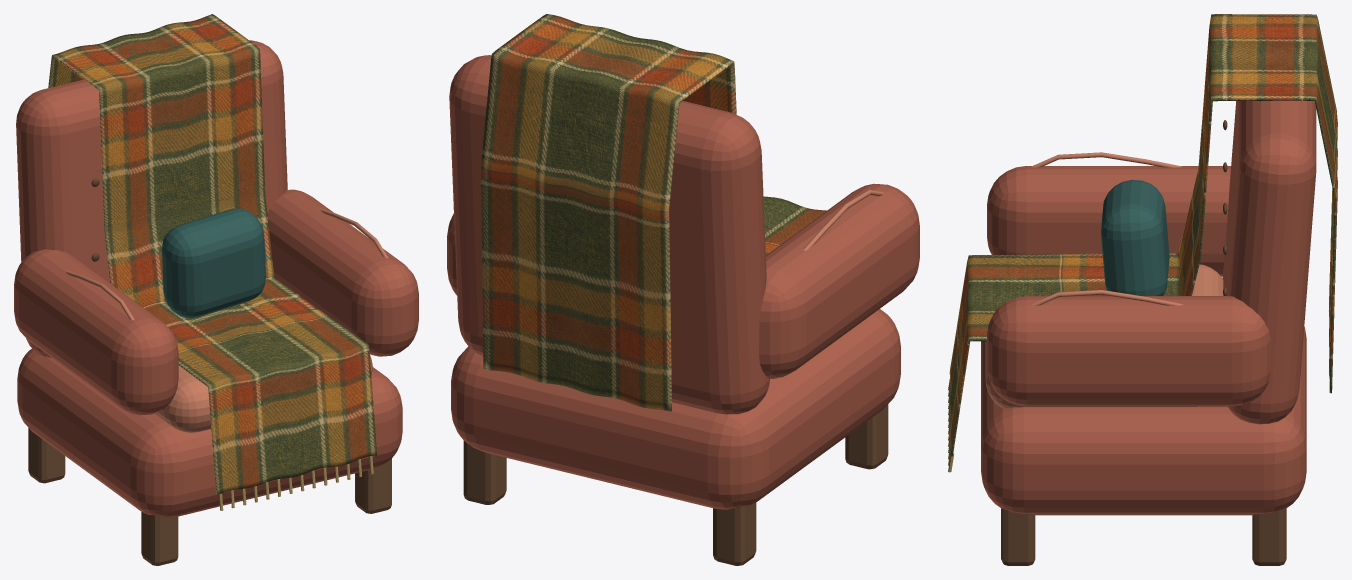
3 renders of one model, left to right at view 1: azimuth 30°, elevation 25°; view 2: azimuth 150°, elevation 25°; view 3: azimuth 270°, elevation 25°, orthographic. The views are drawn at different scales.
Parts seen in each view (by area): view 1: workshop_upholstery, workshop_plaid, workshop_teal_dark, workshop_wood_dark, workshop_upholstery_light, workshop_ochre; view 2: workshop_upholstery, workshop_plaid, workshop_wood_dark, workshop_upholstery_light; view 3: workshop_upholstery, workshop_plaid, workshop_teal_dark, workshop_wood_dark, workshop_upholstery_light.
Part boxes in pixels (x1,y1,x2,y2): workshop_upholstery: [14, 40, 418, 517]; workshop_plaid: [48, 14, 376, 494]; workshop_teal_dark: [162, 208, 265, 317]; workshop_wood_dark: [28, 428, 391, 565]; workshop_upholstery_light: [65, 208, 388, 432]; workshop_ochre: [219, 456, 373, 510]; workshop_upholstery: [447, 55, 919, 509]; workshop_plaid: [481, 14, 826, 411]; workshop_wood_dark: [463, 404, 888, 565]; workshop_upholstery_light: [803, 189, 884, 250]; workshop_upholstery: [981, 100, 1316, 515]; workshop_plaid: [949, 14, 1337, 456]; workshop_teal_dark: [1101, 179, 1169, 295]; workshop_wood_dark: [1001, 508, 1286, 565]; workshop_upholstery_light: [985, 152, 1223, 407].
Size of the model in its own units: 1.36 by 1.73 by 1.37.
7 materials, 1 textured.
